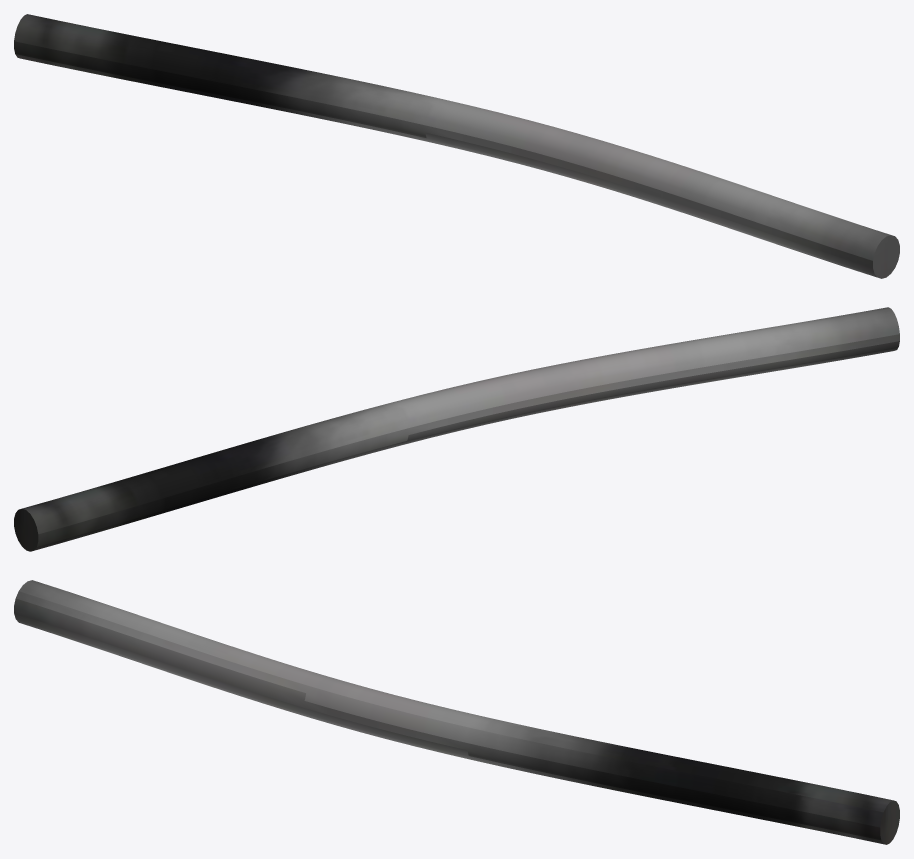
The model's file is high_gain_antenna__feed_strut_0.glb.
The picture shows the model from 3 angles, top to bottom: view 1: azimuth 90°, elevation 25°; view 2: azimuth 150°, elevation 25°; view 3: azimuth 270°, elevation 25°; orthographic projection. The views are drawn at different scales.
Visible parts, largest first — view 1: geometry_0; view 2: geometry_0; view 3: geometry_0.
Boxes of the visible parts, bbox=[...] form: geometry_0: bbox=[14, 14, 899, 278]; geometry_0: bbox=[14, 307, 899, 551]; geometry_0: bbox=[14, 580, 899, 844].
Bounding box in the file's own units: 0.2467 × 0.02 × 0.3903.
Materials: 1 (1 with a texture image).
